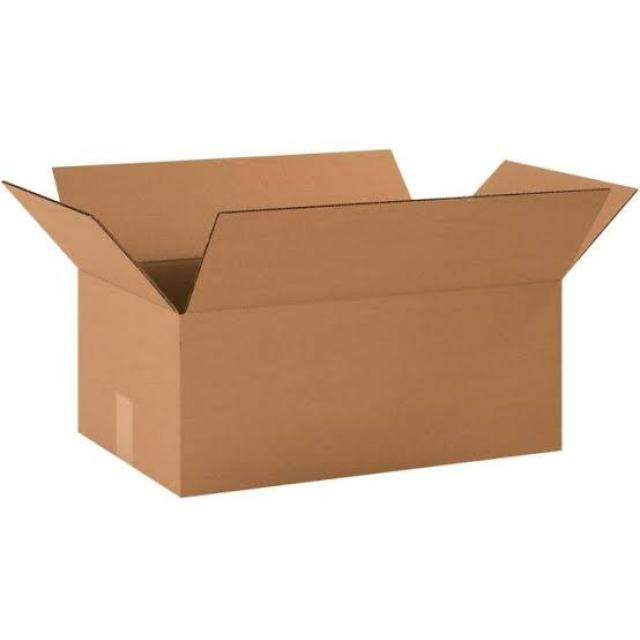cardboard: (19, 107, 640, 487)
